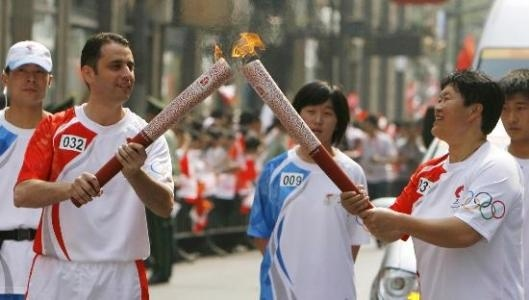fire: (231, 28, 262, 56)
